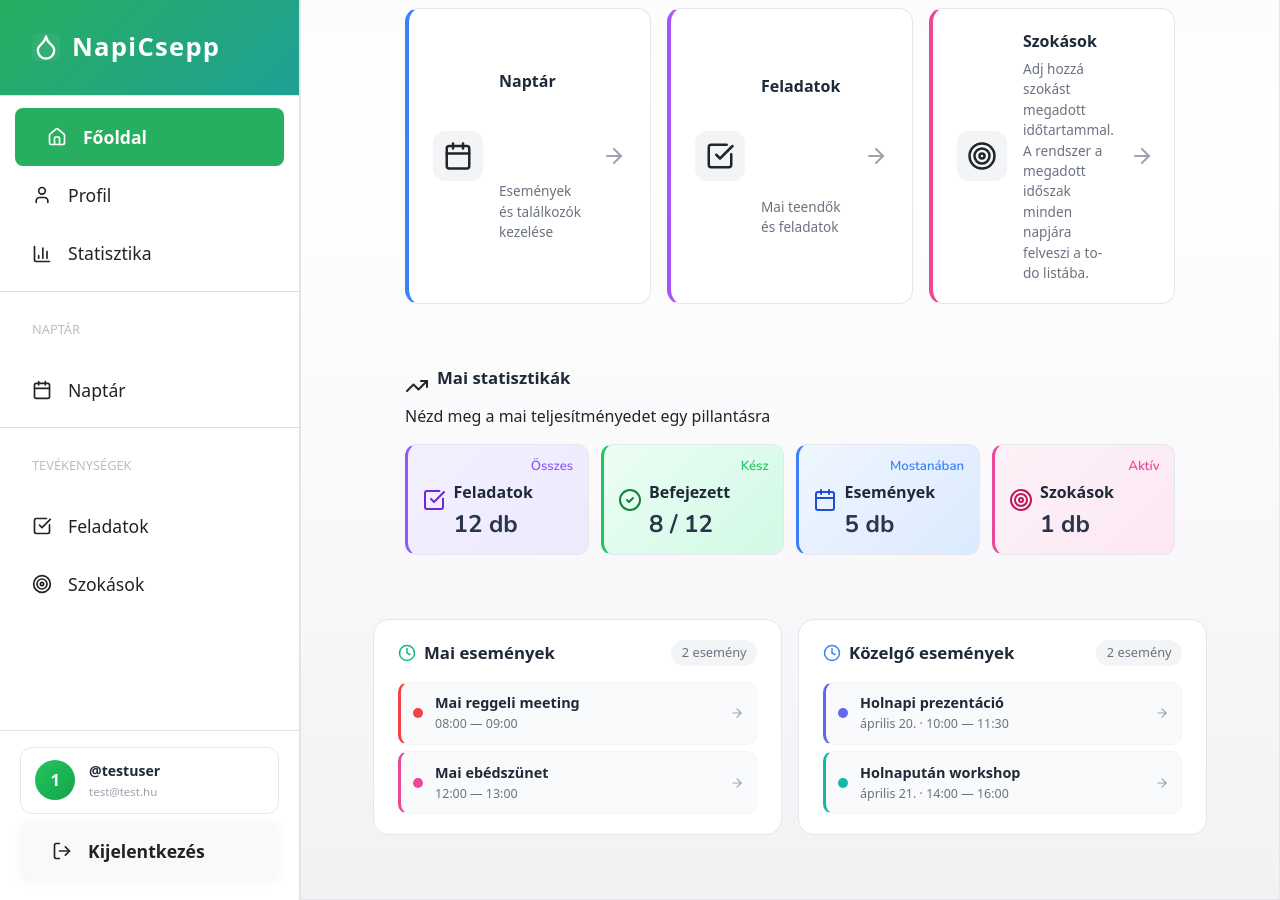
Homepage — Mai események lista › 6 - Mai eseményre kattintás megnyitja a mini popupot
(page scrolled)
Click the element with class "upcoming-event-item" that starts with "Mai reggeli meeting": (578, 714) [398, 682, 757, 745]
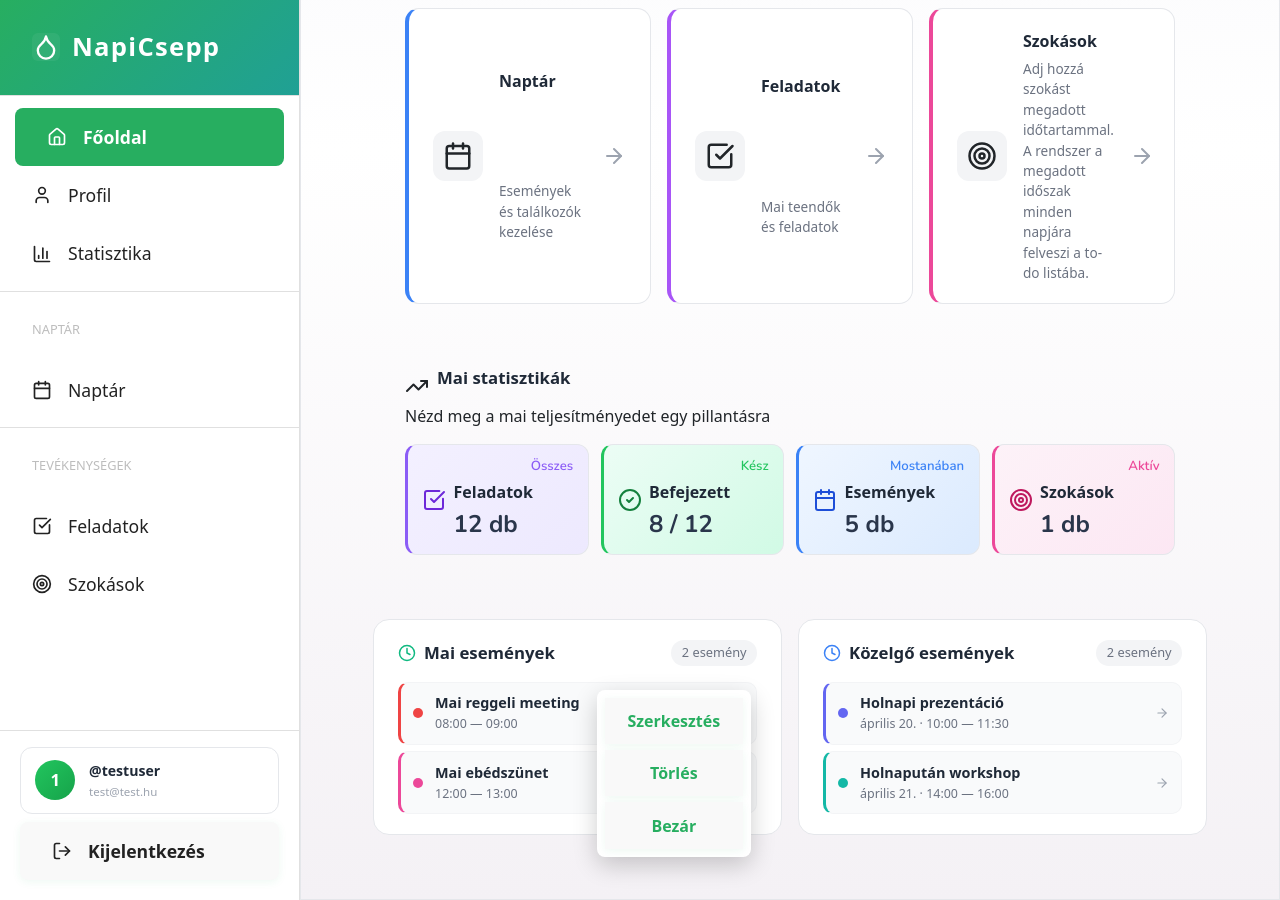
Result: the element with class "mini-popup" is shown at [597, 690, 751, 857]
